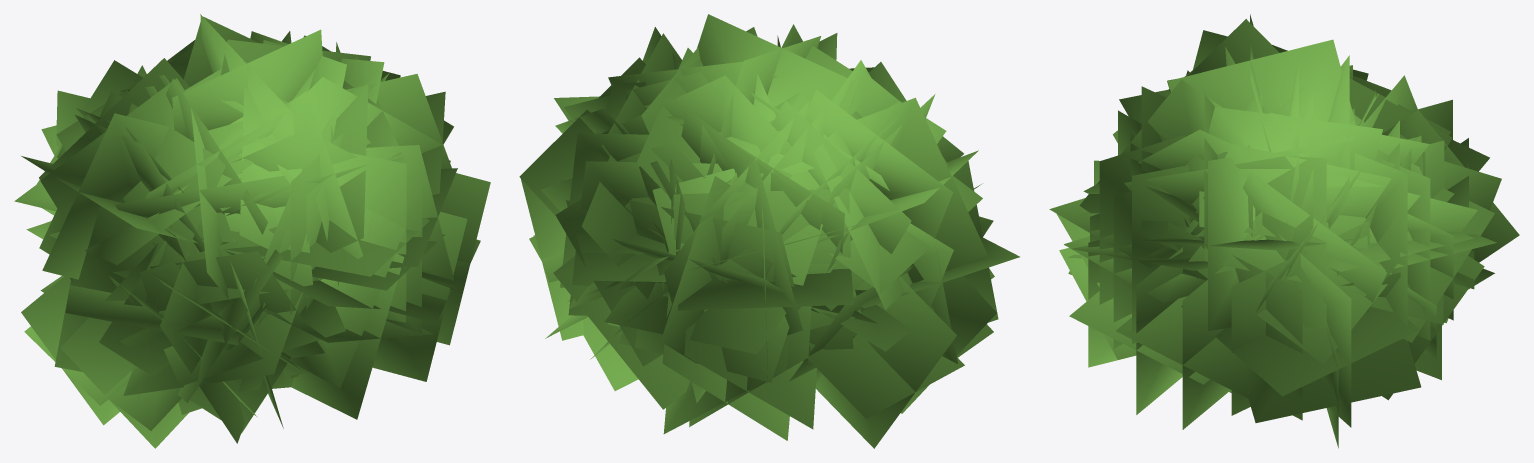
Rendered from SM_Nature_Bush_01.fbx.
3 views of the same model, side by side, from view 1: azimuth 30°, elevation 25°; view 2: azimuth 150°, elevation 25°; view 3: azimuth 270°, elevation 25° (orthographic). The views are drawn at different scales.
Visible parts, largest first — view 1: Bush_01_LOD0; view 2: Bush_01_LOD0; view 3: Bush_01_LOD0.
Part boxes in pixels (bbox=[...]): Bush_01_LOD0: bbox=[14, 14, 490, 448]; Bush_01_LOD0: bbox=[519, 14, 1019, 448]; Bush_01_LOD0: bbox=[1049, 14, 1519, 448].
Size of the model in its own units: 161 by 129 by 152.
